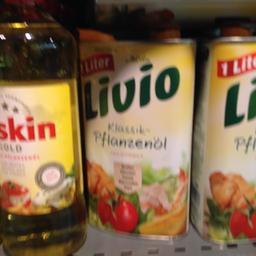oil: (79, 31, 198, 234), (0, 0, 81, 255), (191, 27, 254, 240)
